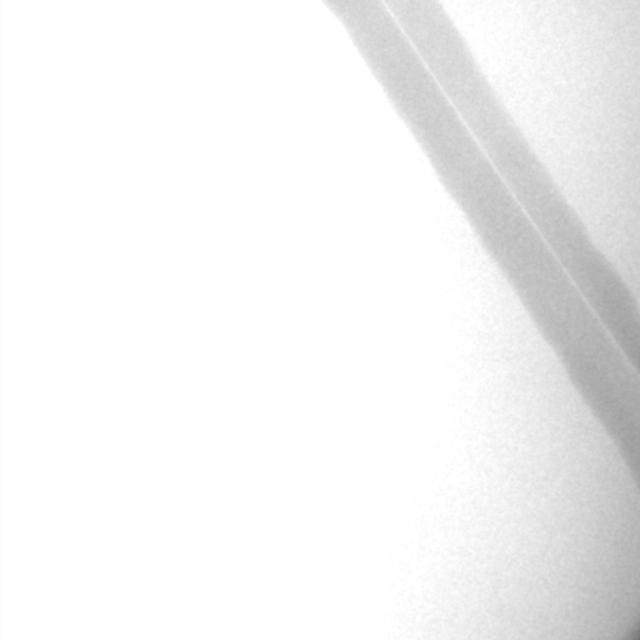broken arc: (385, 4, 635, 369)
